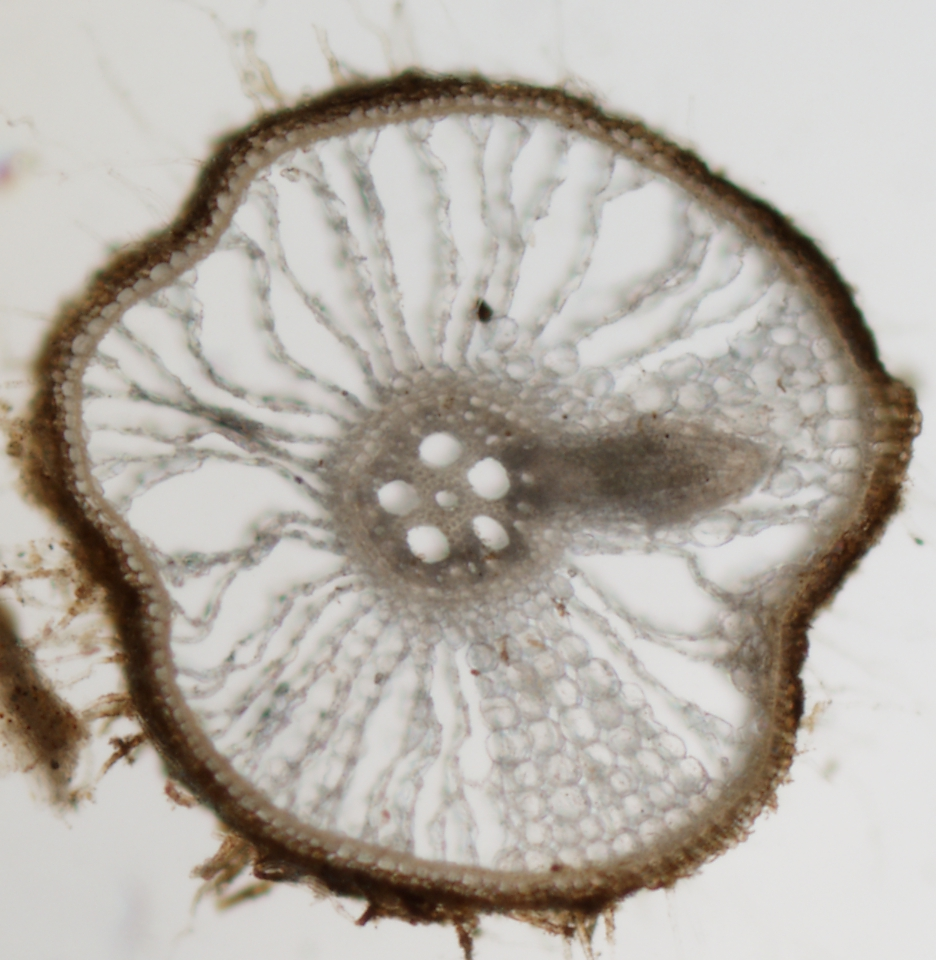lm: (467, 456, 510, 501), (406, 525, 450, 564), (418, 431, 464, 468), (377, 479, 422, 516), (472, 515, 510, 550), (436, 489, 459, 512)
